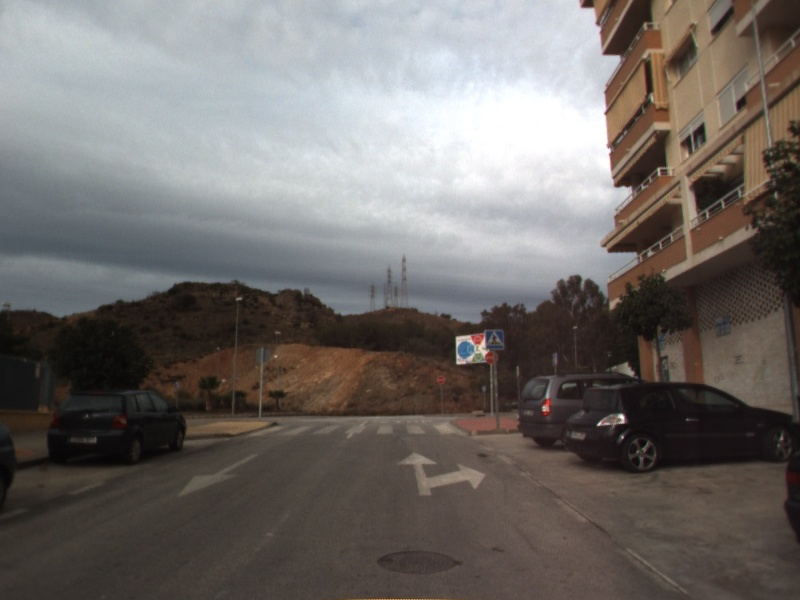STRAIGHT_RIGHT: (395, 449, 488, 498)
